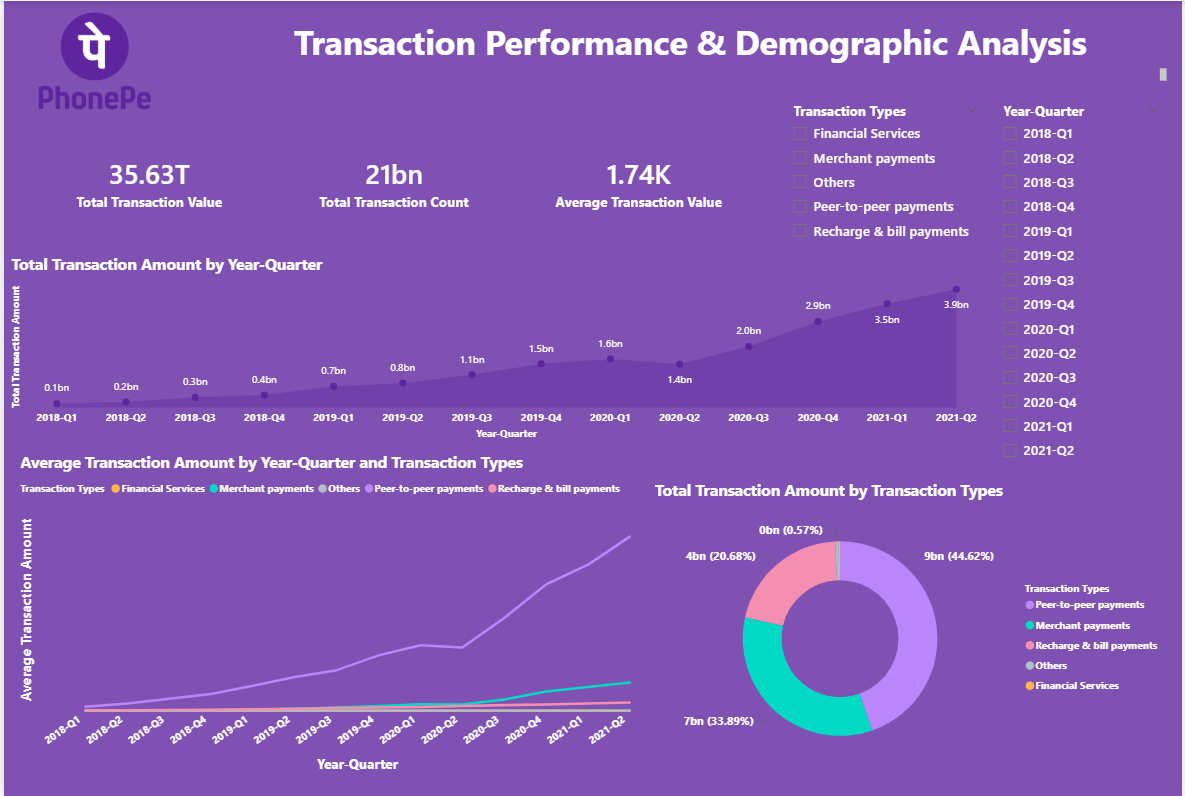

This screenshot's page, from the dashboard's own definition file:
{"tool":"powerbi","page":{"name":"Transaction Performance ","canvas":[1400,950],"ordinal":0},"visuals":[{"type":"cardVisual","fields":{"Data":["Sum(state_transactions.transaction_amount)","Sum(state_transactions.transaction_number_count)","state_transactions.average_transaction_value (ATV)"]},"box":[14.3,146.2,900.7,139.1],"z":0},{"type":"slicer","fields":{"Values":["state_transactionsplit.year_quarter"]},"box":[1175.3,114.1,210.5,440.5],"z":1000},{"type":"slicer","fields":{"Values":["state_transactionsplit.transaction_type"]},"box":[925.6,114.1,244.3,185.5],"z":2000},{"type":"areaChart","title":"Total Transaction Amount by Year-Quarter","fields":{"Category":["state_transactions.year_quarter"],"Y":["Sum(state_transactions.transaction_number_count)"]},"box":[3.6,299.6,1166.4,226.5],"z":3000},{"type":"donutChart","fields":{"Category":["state_transactionsplit.transaction_type"],"Y":["Sum(state_transactionsplit.transaction_number_count)"]},"box":[768.7,568.9,617.1,353.1],"z":4000},{"type":"lineChart","fields":{"Category":["state_transactionsplit.year_quarter"],"Series":["state_transactionsplit.transaction_type"],"Y":["Avg(state_transactionsplit.transaction_amount)"]},"box":[14.3,535.1,754.4,387],"z":5000},{"type":"textbox","title":"Transaction Performance & Demographic Analysis","box":[244.3,21.4,1143.2,78.5],"z":6000},{"type":"image","box":[14.3,8.9,187.3,124.8],"z":7000}]}

Visuals, with their boxes in screenshot pixels (x1, y1, x2, y2), scaled from the page's 1400x950 canvas onto the 1185x796 screenshot:
cardVisual - Sum(state_transactions.transaction_amount) x Sum(state_transactions.transaction_number_count): BBox(12, 123, 774, 239)
slicer - state_transactionsplit.year_quarter: BBox(995, 96, 1173, 465)
slicer - state_transactionsplit.transaction_type: BBox(783, 96, 990, 251)
"Total Transaction Amount by Year-Quarter" areaChart: BBox(3, 251, 990, 441)
donutChart - state_transactionsplit.transaction_type x Sum(state_transactionsplit.transaction_number_count): BBox(651, 477, 1173, 773)
lineChart - state_transactionsplit.year_quarter x state_transactionsplit.transaction_type: BBox(12, 448, 651, 773)
"Transaction Performance & Demographic Analysis" textbox: BBox(207, 18, 1174, 84)
image: BBox(12, 7, 171, 112)
